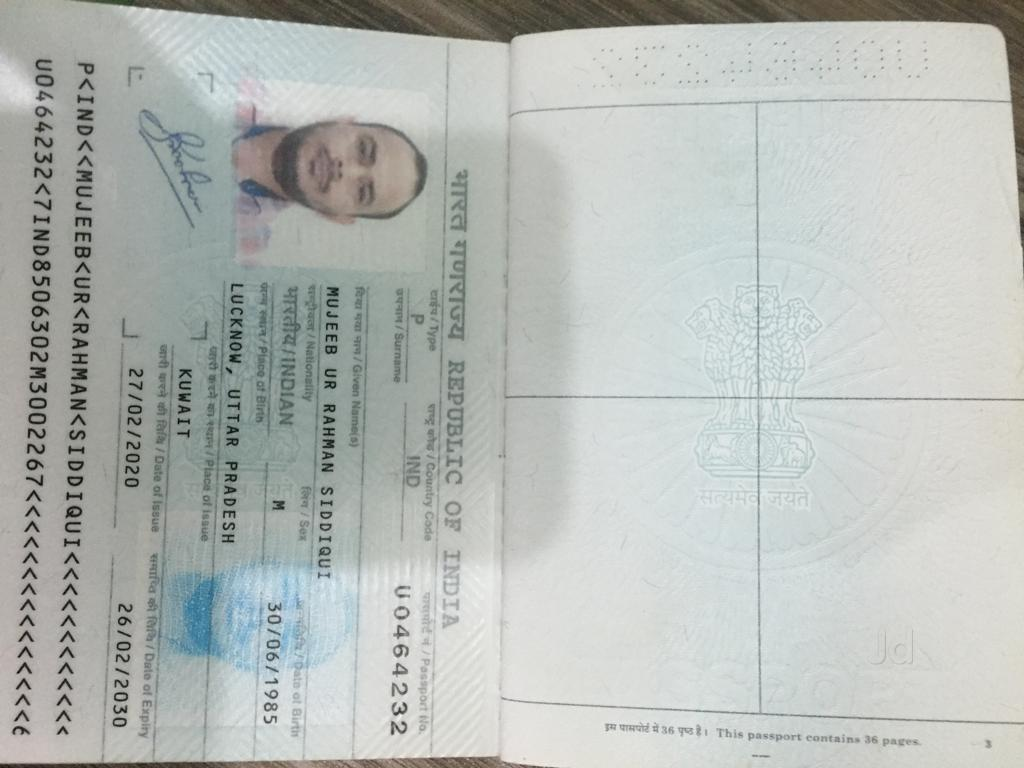DOB: (259, 590, 290, 741)
country_code: (399, 441, 425, 494)
date_of_expiry: (106, 583, 137, 743)
date_of_issue: (120, 357, 152, 502)
details: (3, 31, 101, 751)
name: (309, 276, 347, 590)
nationality: (271, 273, 305, 436)
passport_no: (379, 571, 417, 744)
photo: (228, 77, 432, 275)
place_of_birth: (214, 278, 260, 565)
place_of_issue: (173, 357, 200, 445)
sex: (260, 481, 293, 526)
sign: (130, 76, 217, 263)
type: (404, 303, 432, 333)
